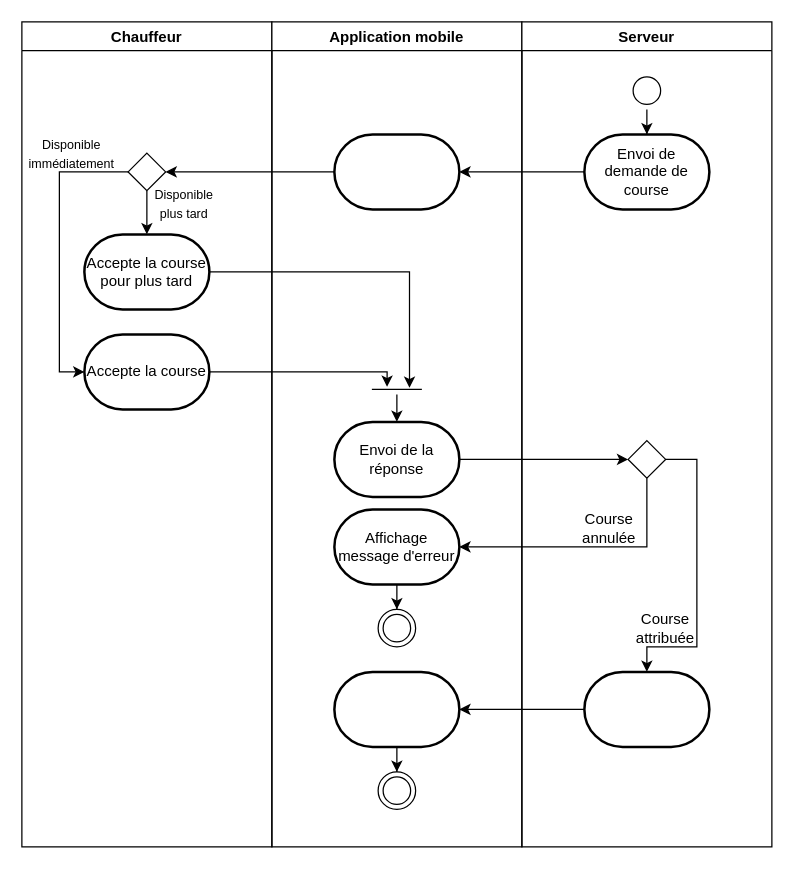
Some shapes in this 794 by 869 pixel diagram are drawn without their labels. Here are the shapes that lost their labels. From the top down, the centre of each, then its label:
the point at 396,171: Affichage de notification de nouvelle course
the point at 396,709: Affichage informations du passager
the point at 646,709: Notification du passager
